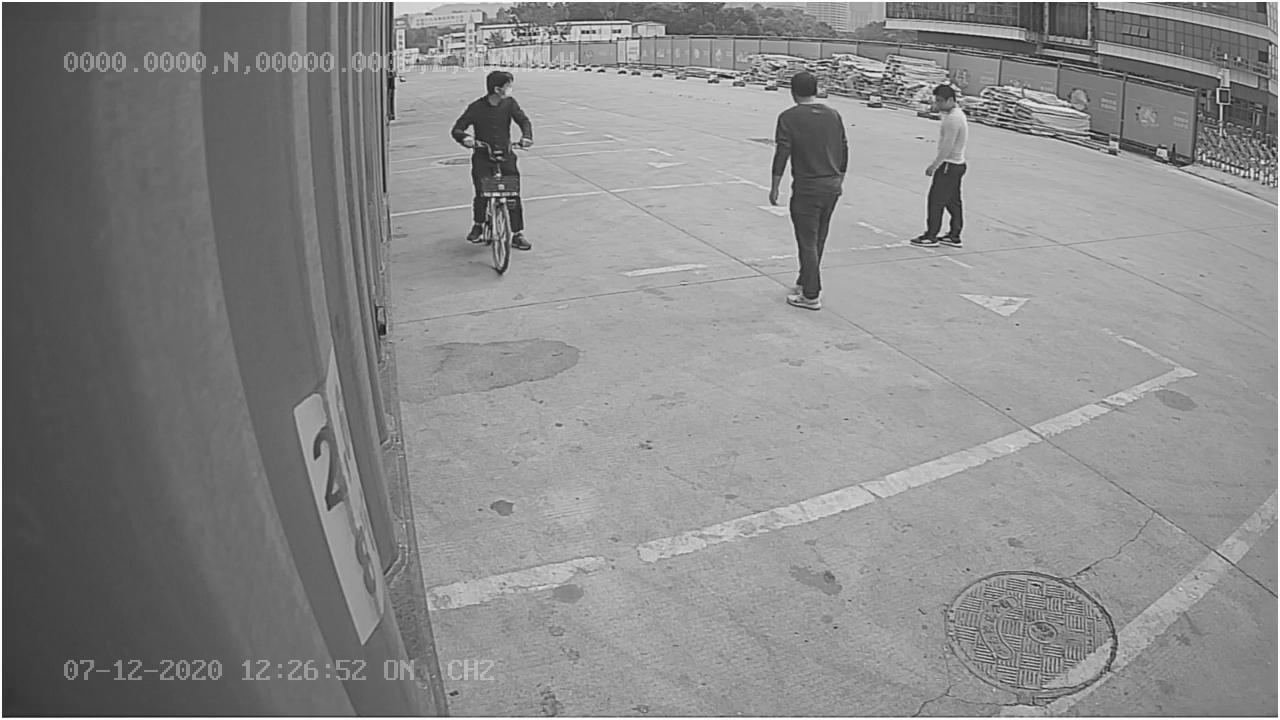person: (766, 67, 853, 312)
